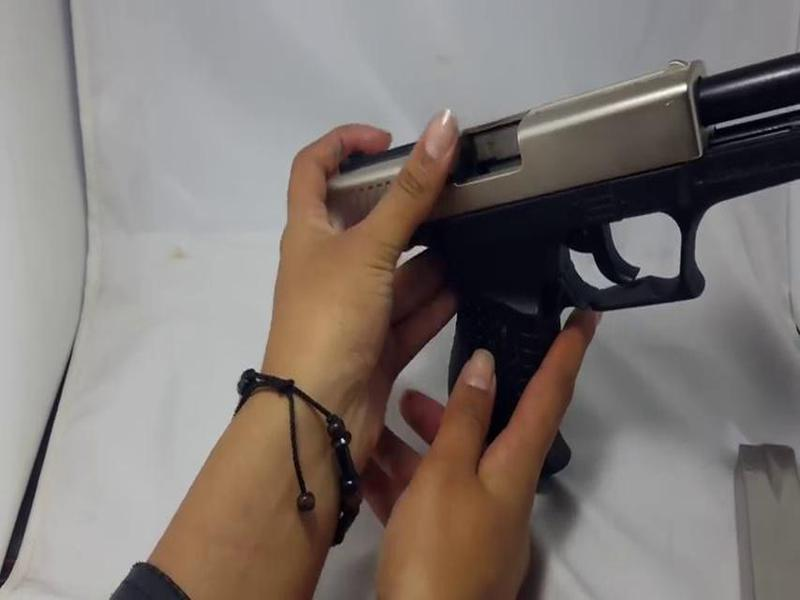Pistola: (263, 28, 800, 482)
